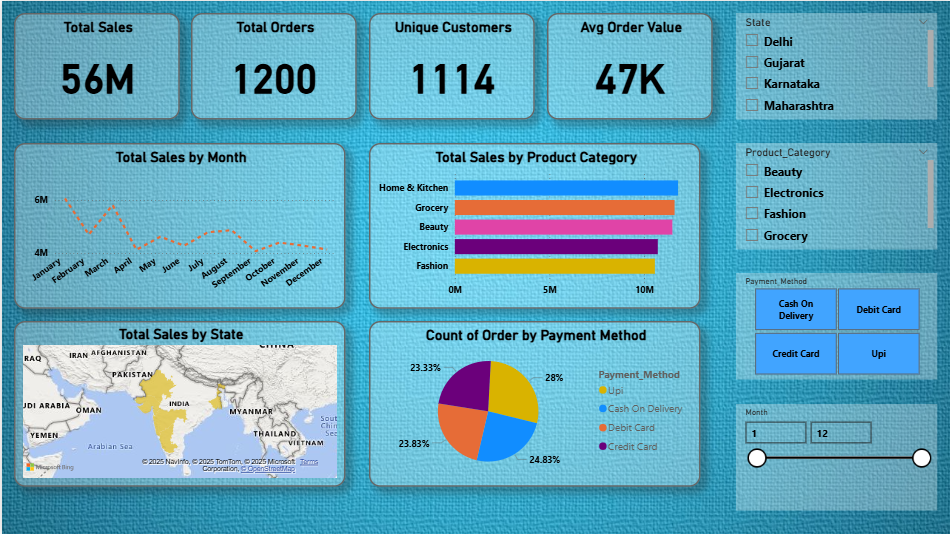

The dashboard page shown, as its layout file describes it:
{"tool":"powerbi","page":{"name":"Page 1","canvas":[1280,720],"ordinal":0},"visuals":[{"type":"card","title":"Total Sales","fields":{"Values":["Sum(cleaned_sales_data.Total_Sales_INR)"]},"box":[16,16,224,144],"z":0},{"type":"card","title":"Total Orders","fields":{"Values":["Count(cleaned_sales_data.Order_ID)"]},"box":[256,16,224,144],"z":1},{"type":"card","title":"Unique Customers","fields":{"Values":["Count(cleaned_sales_data.Customer_ID)"]},"box":[496,16,224,144],"z":2},{"type":"card","title":"Avg Order Value","fields":{"Values":["cleaned_sales_data.Avg Order Value"]},"box":[736,16,224,144],"z":3},{"type":"lineChart","title":"Total Sales by Month","fields":{"Category":["cleaned_sales_data.Date.Variation.Date Hierarchy.Month"],"Y":["Sum(cleaned_sales_data.Total_Sales_INR)"]},"box":[16,192,448,224],"z":4},{"type":"barChart","title":"Total Sales by Product Category","fields":{"Category":["cleaned_sales_data.Product_Category"],"Y":["Sum(cleaned_sales_data.Total_Sales_INR)"]},"box":[496,192,448,224],"z":5},{"type":"filledMap","title":"Total Sales by State","fields":{"Category":["cleaned_sales_data.State"]},"box":[16,432,448,224],"z":6},{"type":"pieChart","title":"Count of Order by Payment Method","fields":{"Category":["cleaned_sales_data.Payment_Method"],"Y":["CountNonNull(cleaned_sales_data.Order_ID)"]},"box":[496,432,448,224],"z":7},{"type":"slicer","fields":{"Values":["cleaned_sales_data.State"]},"box":[992,16,272,144],"z":8},{"type":"slicer","fields":{"Values":["cleaned_sales_data.Product_Category"]},"box":[992,192,272,144],"z":9},{"type":"slicer","fields":{"Values":["cleaned_sales_data.Payment_Method"]},"box":[992,368,272,144],"z":10},{"type":"slicer","fields":{"Values":["cleaned_sales_data.Month"]},"box":[992,544,272,144],"z":11}]}

Visuals, with their boxes in screenshot pixels (x1, y1, x2, y2), scaled from the page's 1280x720 canvas onto the 950x534 screenshot:
"Total Sales" card: bbox=(12, 12, 178, 119)
"Total Orders" card: bbox=(190, 12, 356, 119)
"Unique Customers" card: bbox=(368, 12, 534, 119)
"Avg Order Value" card: bbox=(546, 12, 712, 119)
"Total Sales by Month" lineChart: bbox=(12, 142, 344, 309)
"Total Sales by Product Category" barChart: bbox=(368, 142, 701, 309)
"Total Sales by State" filledMap: bbox=(12, 320, 344, 487)
"Count of Order by Payment Method" pieChart: bbox=(368, 320, 701, 487)
slicer - cleaned_sales_data.State: bbox=(736, 12, 938, 119)
slicer - cleaned_sales_data.Product_Category: bbox=(736, 142, 938, 249)
slicer - cleaned_sales_data.Payment_Method: bbox=(736, 273, 938, 380)
slicer - cleaned_sales_data.Month: bbox=(736, 403, 938, 510)
